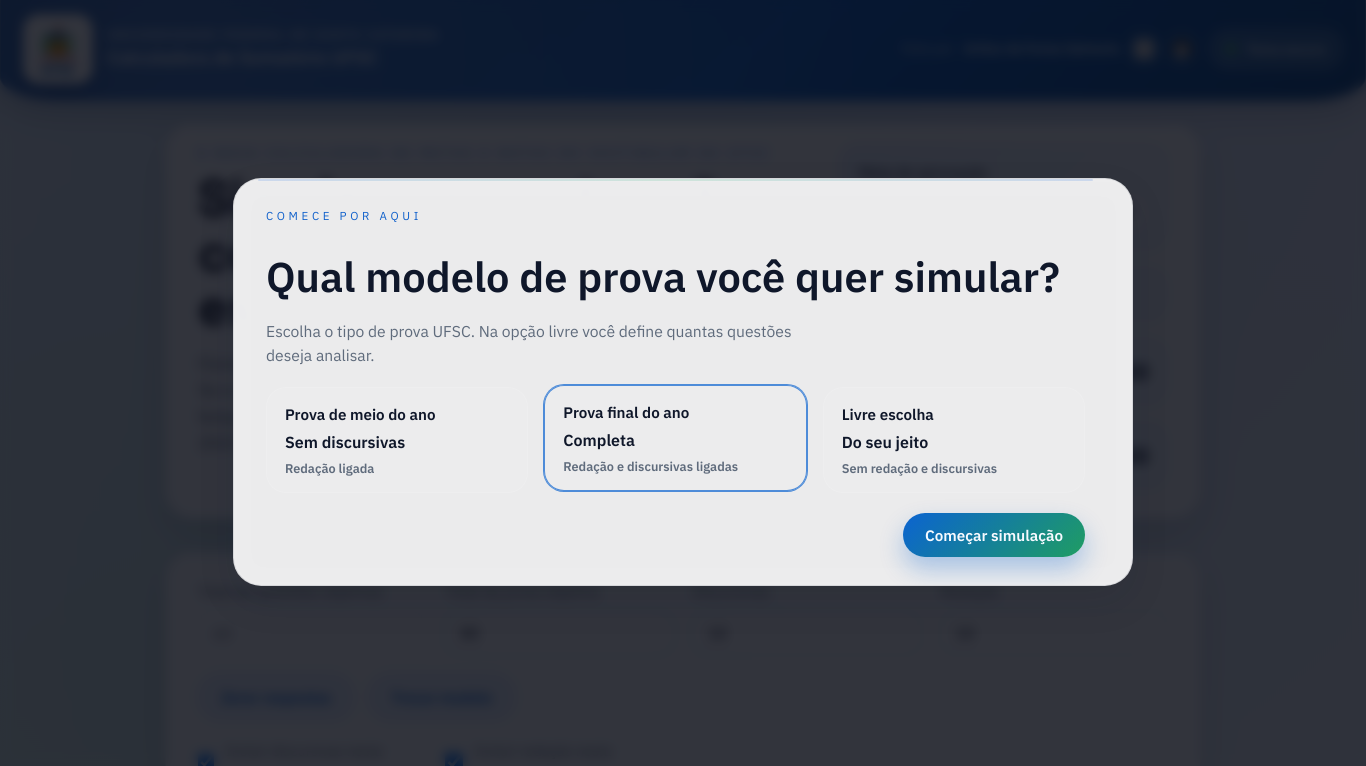
Test: App › aplica modo livre e regenera quantidade de questões
Click the button "Livre escolha Do seu jeito Sem redação e discursivas": (888,414) [823,387,1085,493]
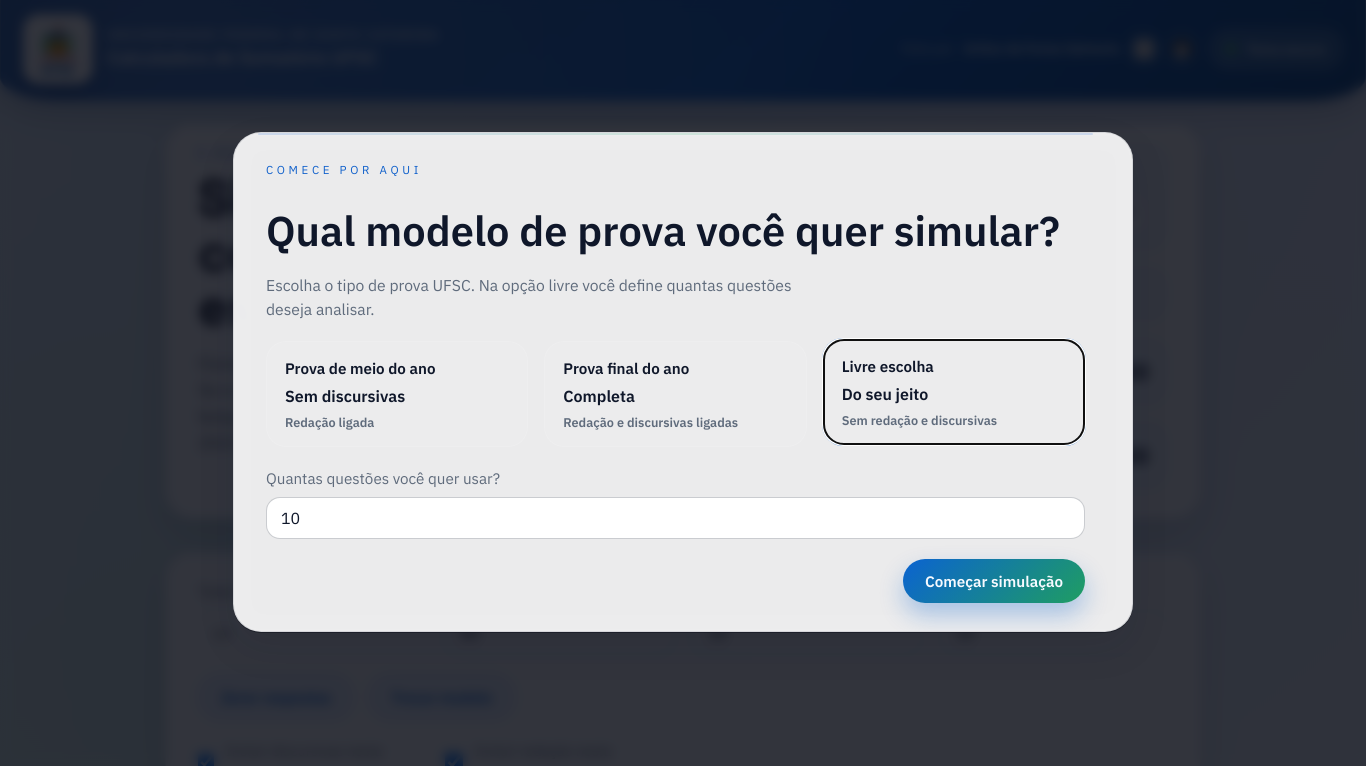
Replace the text in the number field labelled "Quantas questões você quer usar?" with "3": (676,518) [266,497,1085,539]
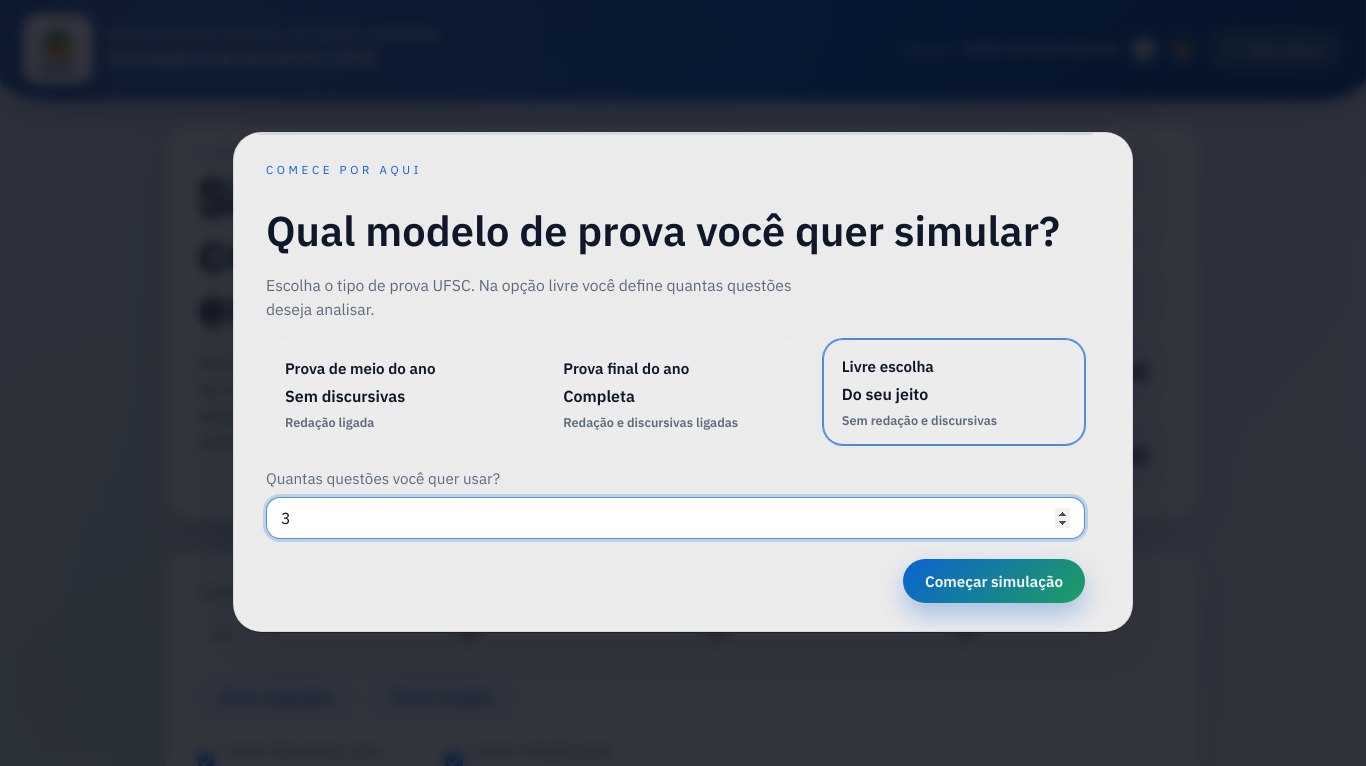
Click the button "Começar simulação": (994,581) [903,559,1085,603]
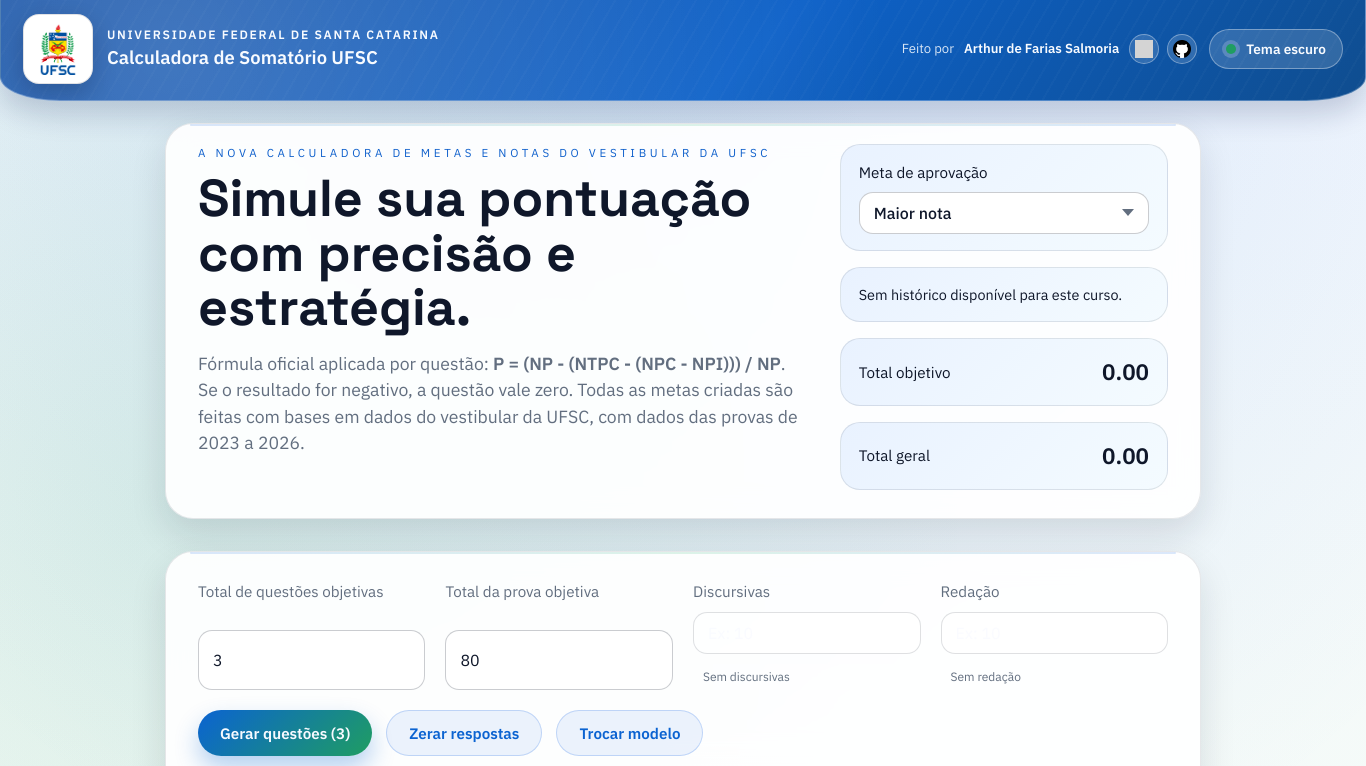
Expected: the text "Questão 04" is not shown
Now the number field labelled "Total de questões objetivas" holds "3"
Replace the text in the number field labelled "Total de questões objetivas" with "5": (312,660) [198,630,426,690]
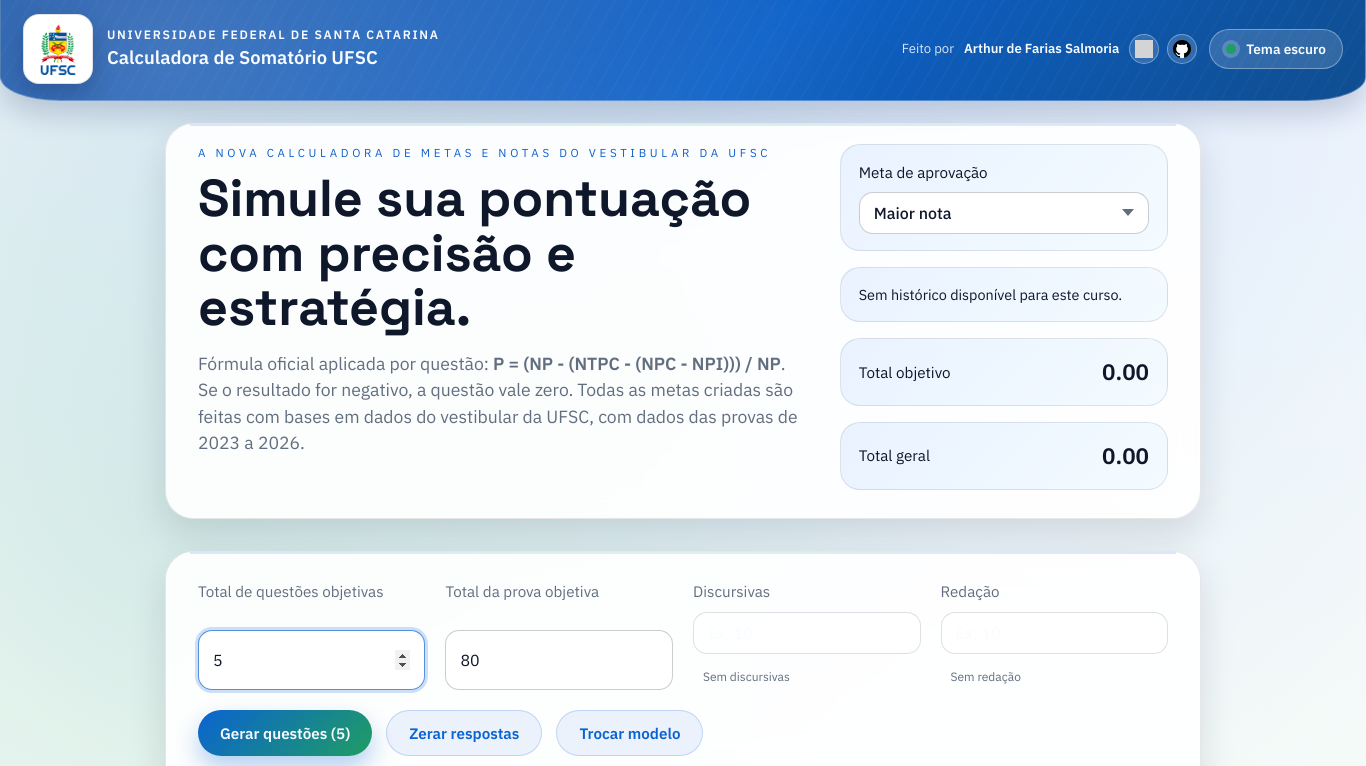
Click the button "Gerar questões (5)": (285,733) [198,710,372,756]
(page scrolled)
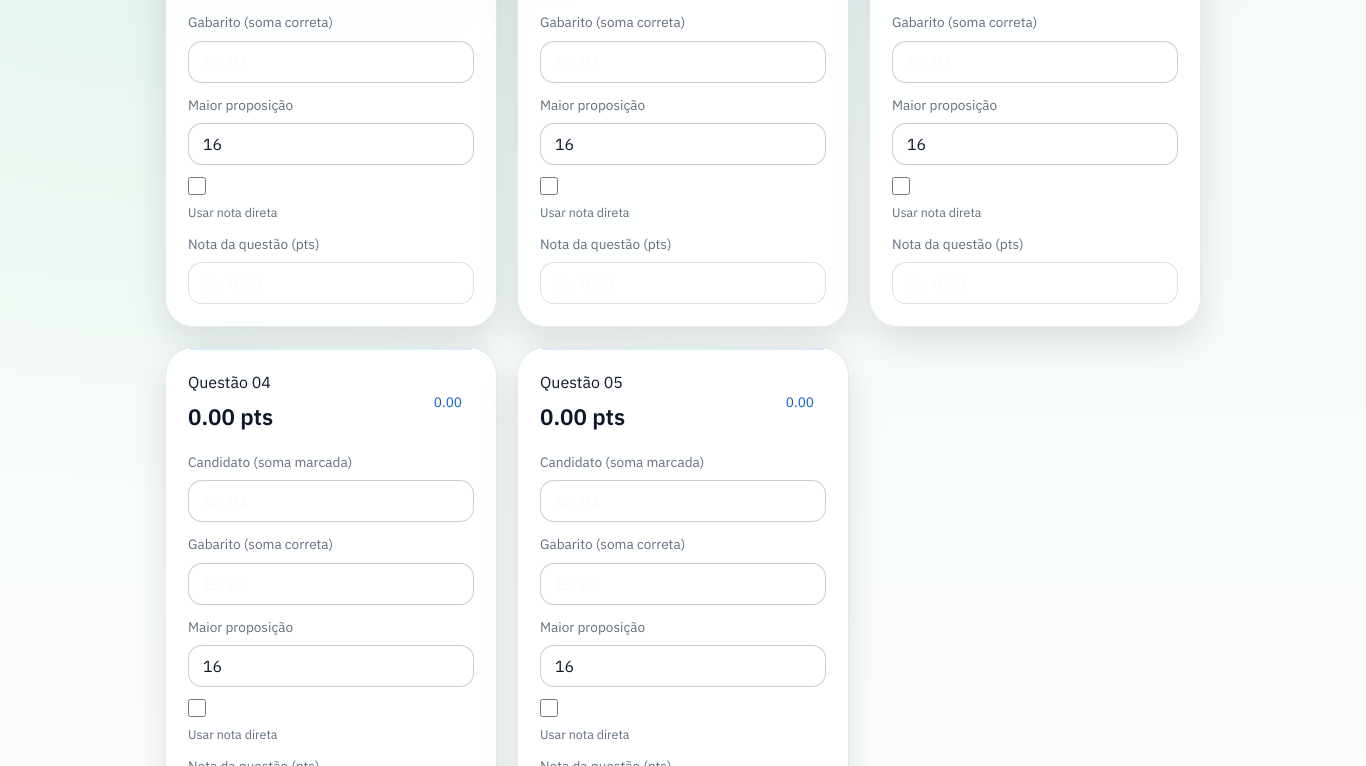
Now the text "Questão 05" is shown, box [540,370,625,394]
